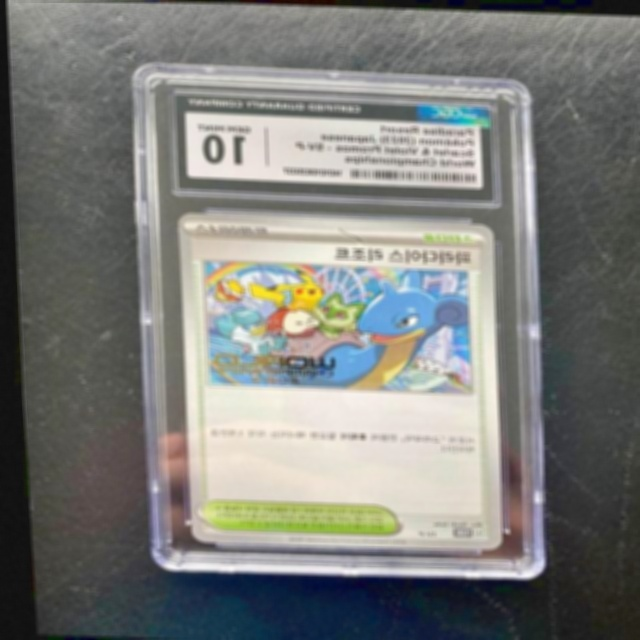card: (174, 210, 494, 548)
